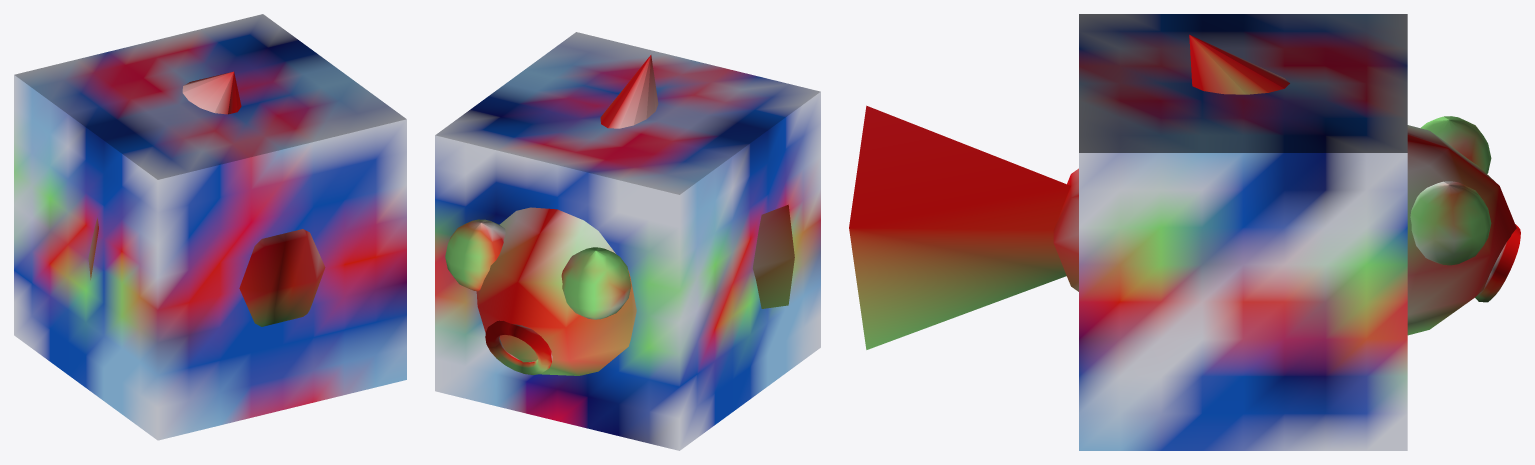
File: icefish.glb
3 views of the same model, side by side, from view 1: azimuth 30°, elevation 25°; view 2: azimuth 150°, elevation 25°; view 3: azimuth 270°, elevation 25° (orthographic). The views are drawn at different scales.
Visible parts, largest first — view 1: Icefish; view 2: Icefish; view 3: Icefish.
Part boxes in pixels (<box>): Icefish: <box>14,14,406,440</box>; Icefish: <box>435,32,820,450</box>; Icefish: <box>849,14,1520,450</box>.
Size of the model in its own units: 0.7447 by 0.7645 by 1.34.
